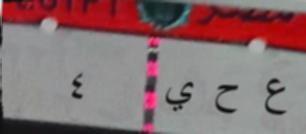4: (60, 72, 97, 102)
7aa: (209, 79, 245, 119)
ain: (256, 75, 292, 122)
yaa: (164, 78, 197, 115)
